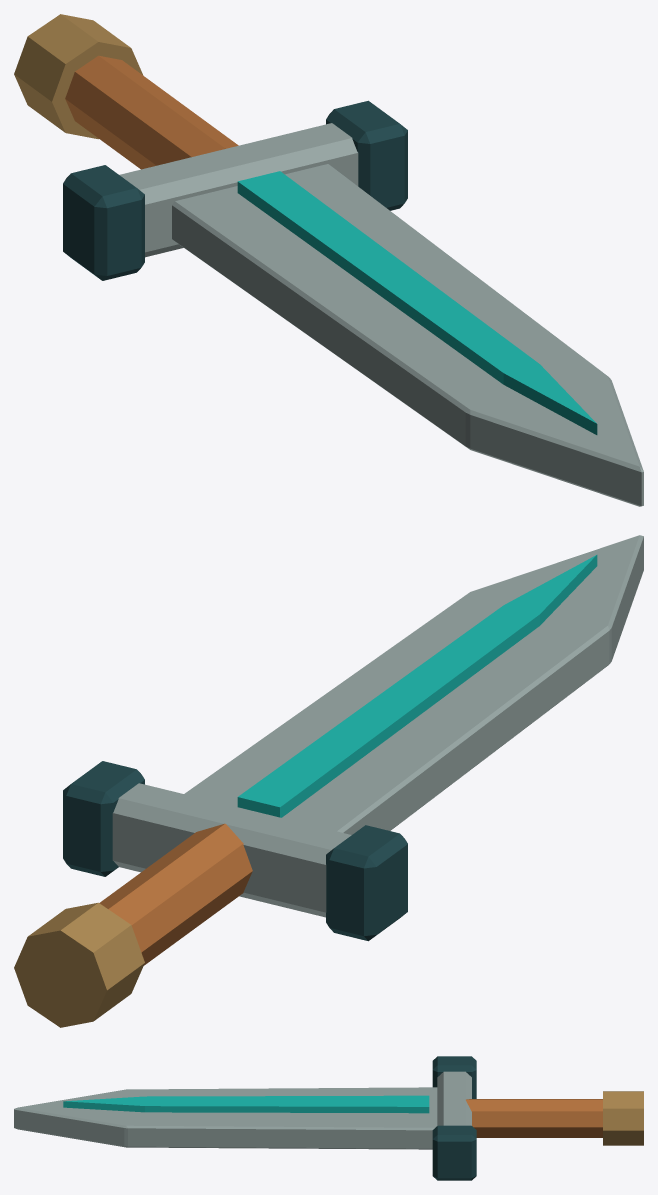
Rendered from skyblade.glb.
3 views of the same model, one above another, from view 1: azimuth 30°, elevation 25°; view 2: azimuth 150°, elevation 25°; view 3: azimuth 270°, elevation 25° (orthographic). The views are drawn at different scales.
Parts seen in each view (by area): view 1: SM_Skyblade; view 2: SM_Skyblade; view 3: SM_Skyblade.
Part boxes in pixels (bbox=[...]): SM_Skyblade: bbox=[14, 14, 643, 506]; SM_Skyblade: bbox=[14, 535, 643, 1027]; SM_Skyblade: bbox=[14, 1056, 643, 1180].
Size of the model in its own units: 0.31 by 0.092 by 0.9967.
